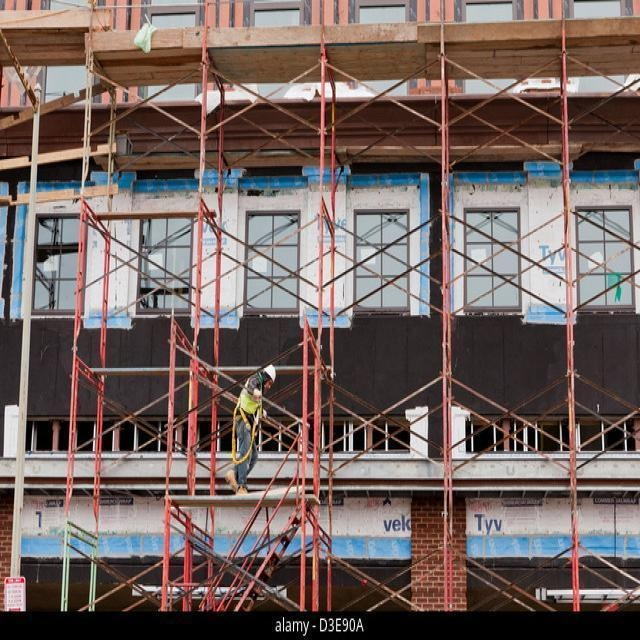Arnes_seguridad: (233, 386, 261, 450)
